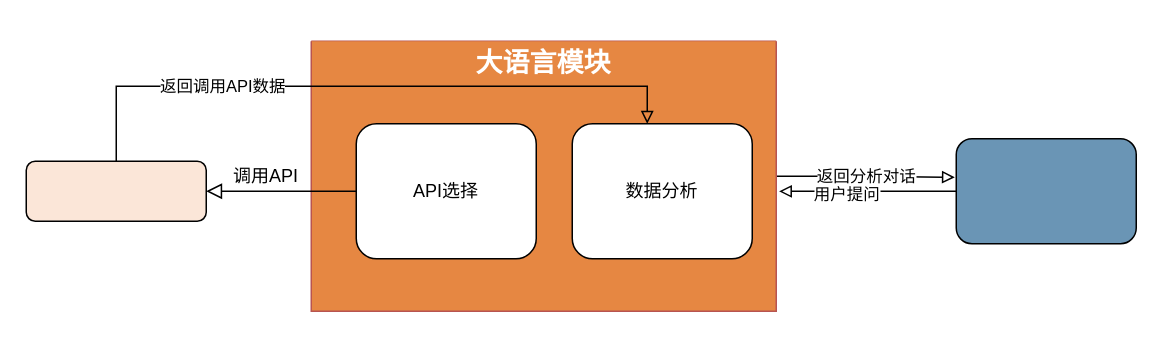
This 1163x338 diagram has some shape labels left out. The centre of each missing label's shape, as x and y in pixels:
后端: [115,190]
客户端: [1045,190]
